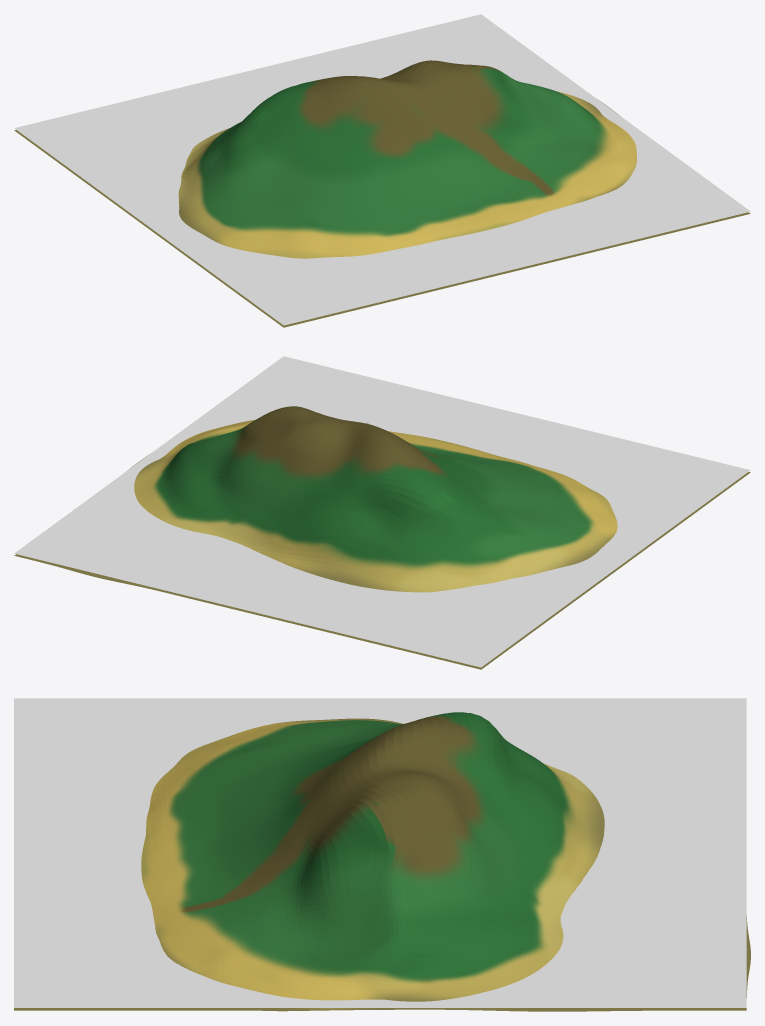
The model's file is island.gltf.
The picture shows the model from 3 angles, top to bottom: view 1: azimuth 30°, elevation 25°; view 2: azimuth 150°, elevation 25°; view 3: azimuth 270°, elevation 25°; orthographic projection. The views are drawn at different scales.
Visible parts, largest first — view 1: Plane, Plane.001; view 2: Plane.001, Plane; view 3: Plane.001, Plane.
Part boxes in pixels (x1=…): Plane: x1=14, y1=60, x2=750, y2=327; Plane.001: x1=14, y1=14, x2=750, y2=325; Plane.001: x1=14, y1=356, x2=750, y2=667; Plane: x1=14, y1=406, x2=750, y2=669; Plane.001: x1=14, y1=698, x2=746, y2=1007; Plane: x1=14, y1=712, x2=750, y2=1011.
Size of the model in its own units: 50.23 by 9.04 by 50.38.
Materials: 1 (1 with a texture image).
